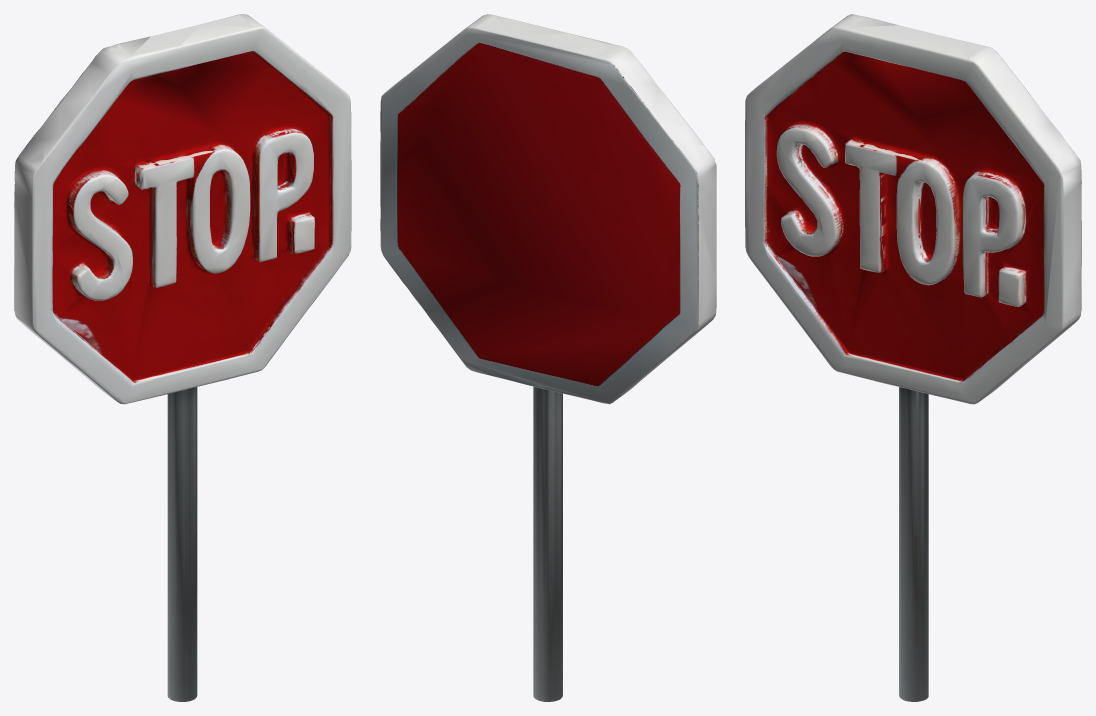
The model's file is env_trafficsign.glb.
The picture shows the model from 3 angles, left to right: view 1: azimuth 30°, elevation 25°; view 2: azimuth 150°, elevation 25°; view 3: azimuth 330°, elevation 25°; orthographic projection.
Parts seen in each view (by area): view 1: model; view 2: model; view 3: model.
Boxes of the visible parts, x1,y1,x2,y2 form: model: (14,14,351,701); model: (380,14,716,701); model: (745,14,1081,701).
Size of the model in its own units: 0.9632 by 1.9 by 0.1249.
Materials: 1 (1 with a texture image).
